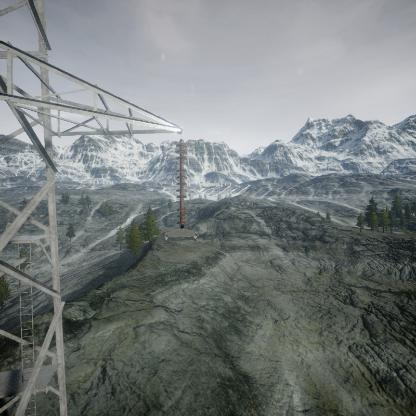insulator: (175, 139, 189, 228)
